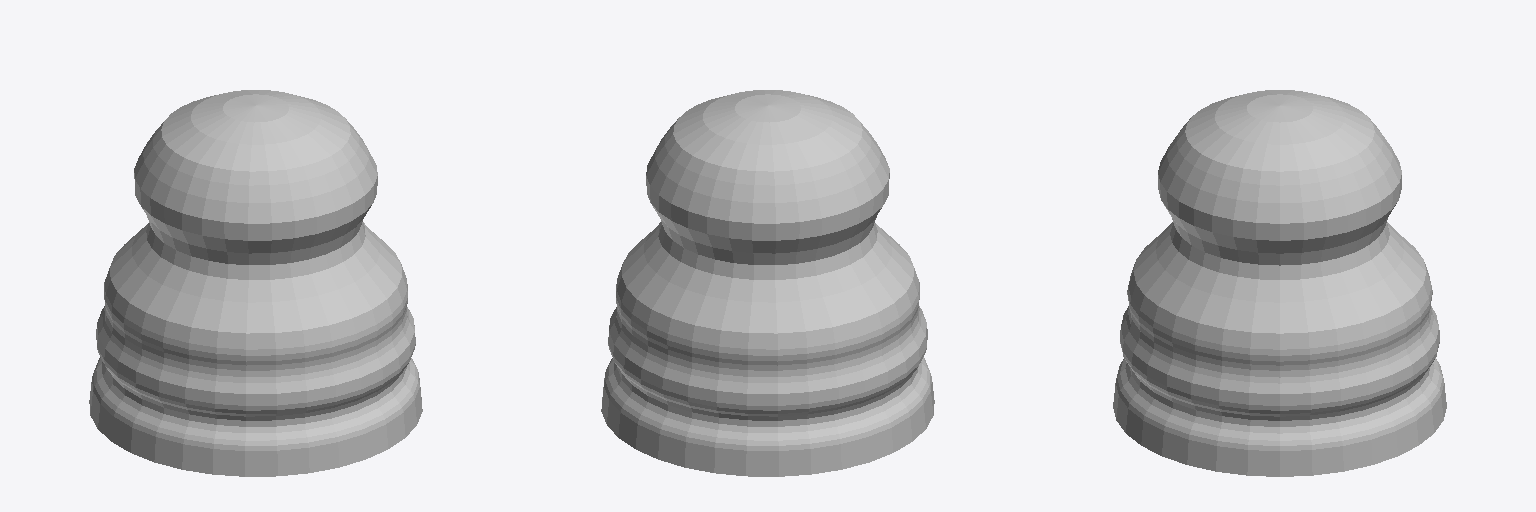
File: dome2.obj
The picture shows the model from 3 angles: view 1: azimuth 30°, elevation 25°; view 2: azimuth 150°, elevation 25°; view 3: azimuth 270°, elevation 25°; orthographic projection.
Parts seen in each view (by area): view 1: Sphere; view 2: Sphere; view 3: Sphere.
Part boxes in pixels (left/top/right/bottom): Sphere: left=89, top=90, right=422, bottom=476; Sphere: left=601, top=90, right=934, bottom=476; Sphere: left=1113, top=90, right=1446, bottom=476.
Size of the model in its own units: 1.96 by 1.95 by 1.96.